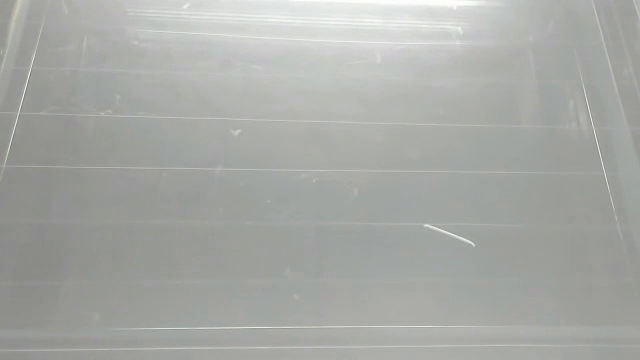alpha: (421, 220, 477, 249)
